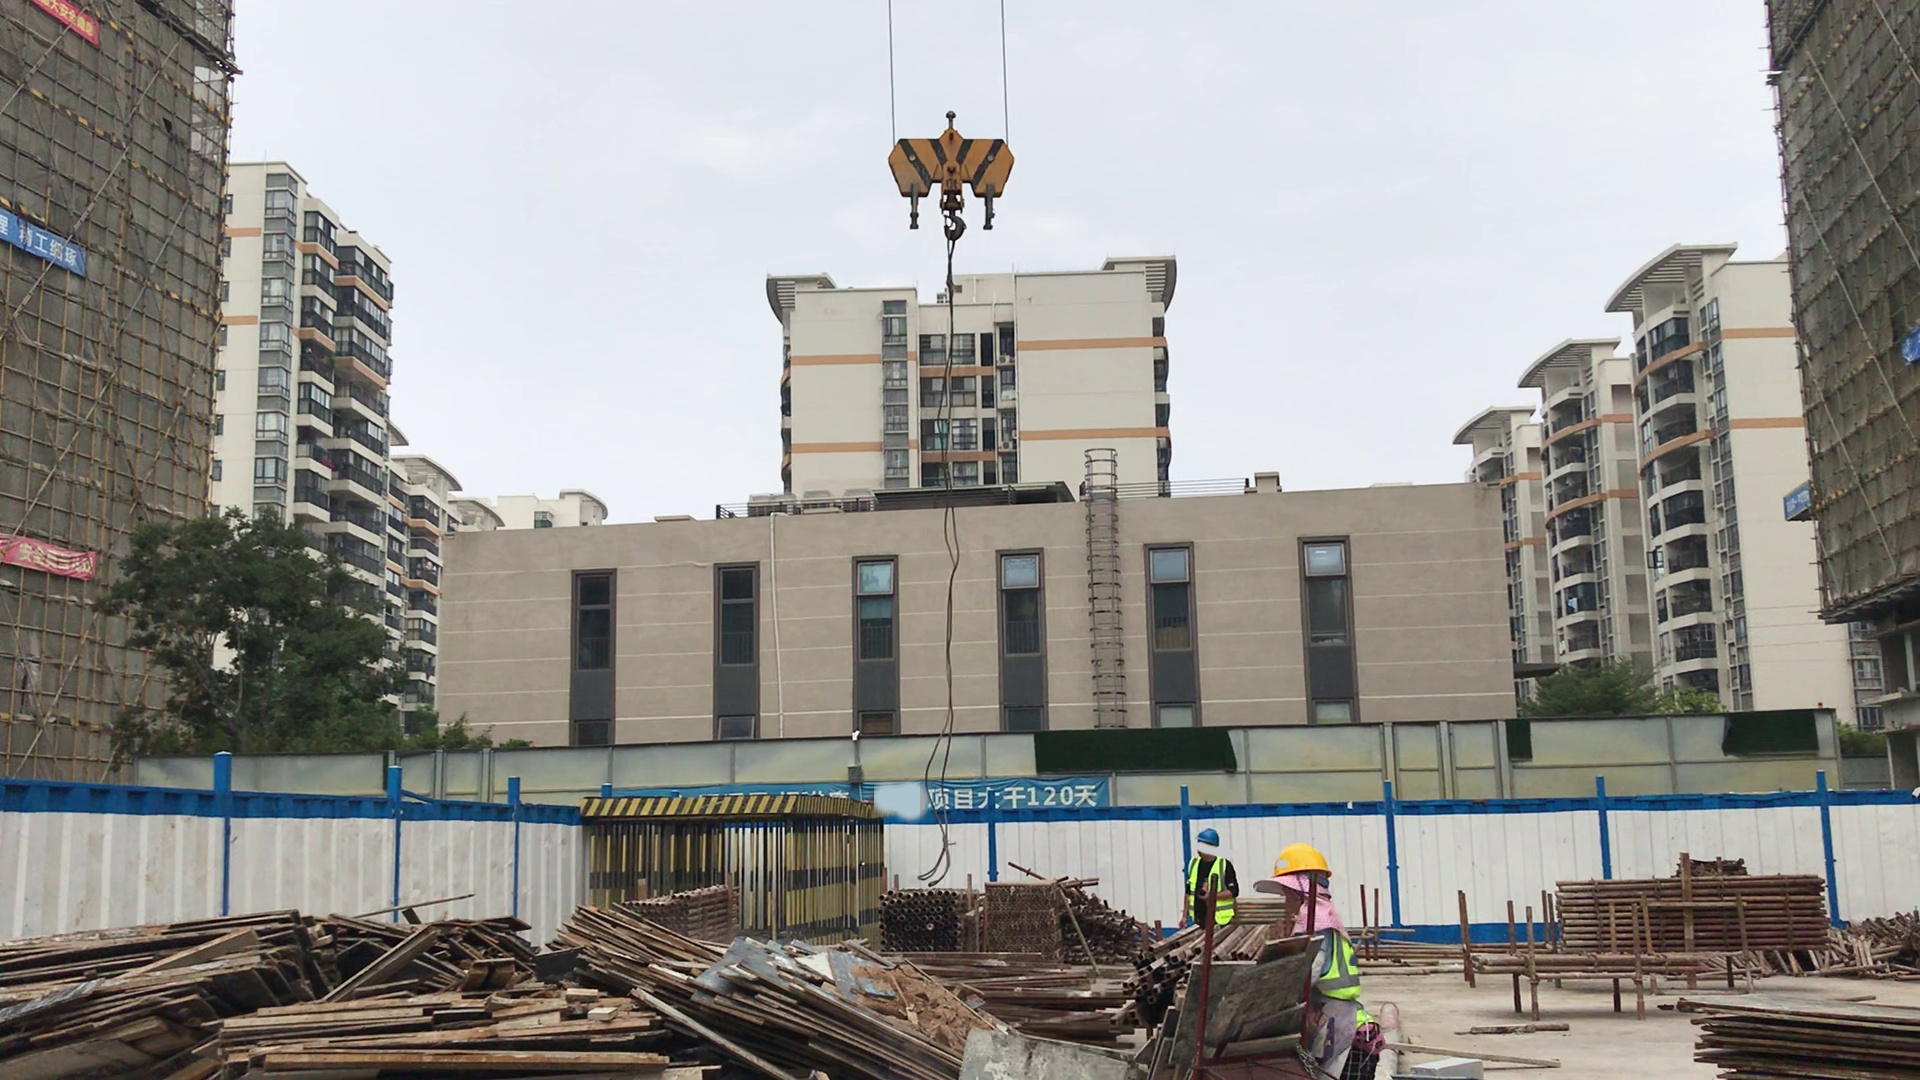board: (1671, 990, 1920, 1080)
helmet: (1269, 841, 1342, 882), (1193, 819, 1229, 848)
hook: (837, 100, 1022, 229)
person: (1280, 846, 1371, 1011), (1174, 823, 1238, 928)
scaffold: (1553, 862, 1836, 953), (1125, 924, 1267, 1016), (880, 872, 977, 960)
slogan: (777, 772, 1115, 822), (1, 208, 86, 277), (1, 535, 95, 576), (34, 1, 101, 48)
vest: (1310, 926, 1371, 1004), (1182, 850, 1230, 922)
